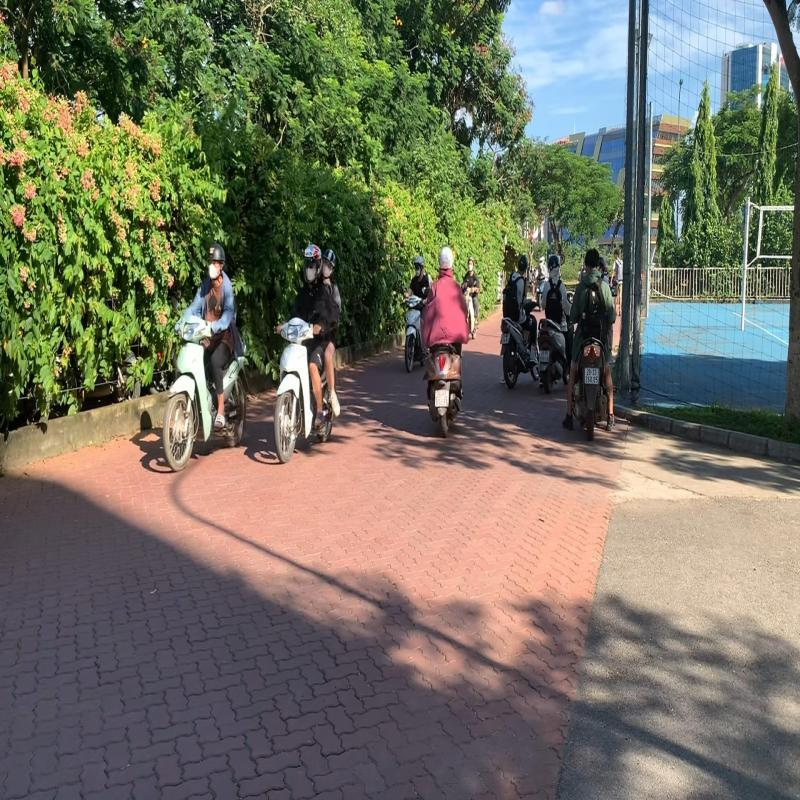nohelmet: (584, 247, 600, 272)
